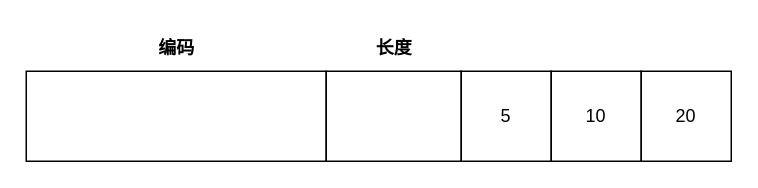
This 758x188 diagram has some shape labels left out. Each missing label, with the box of its shape:
encoding:INTSET_ENC_INT16: (25, 70, 326, 161)
length:3: (325, 70, 461, 161)
